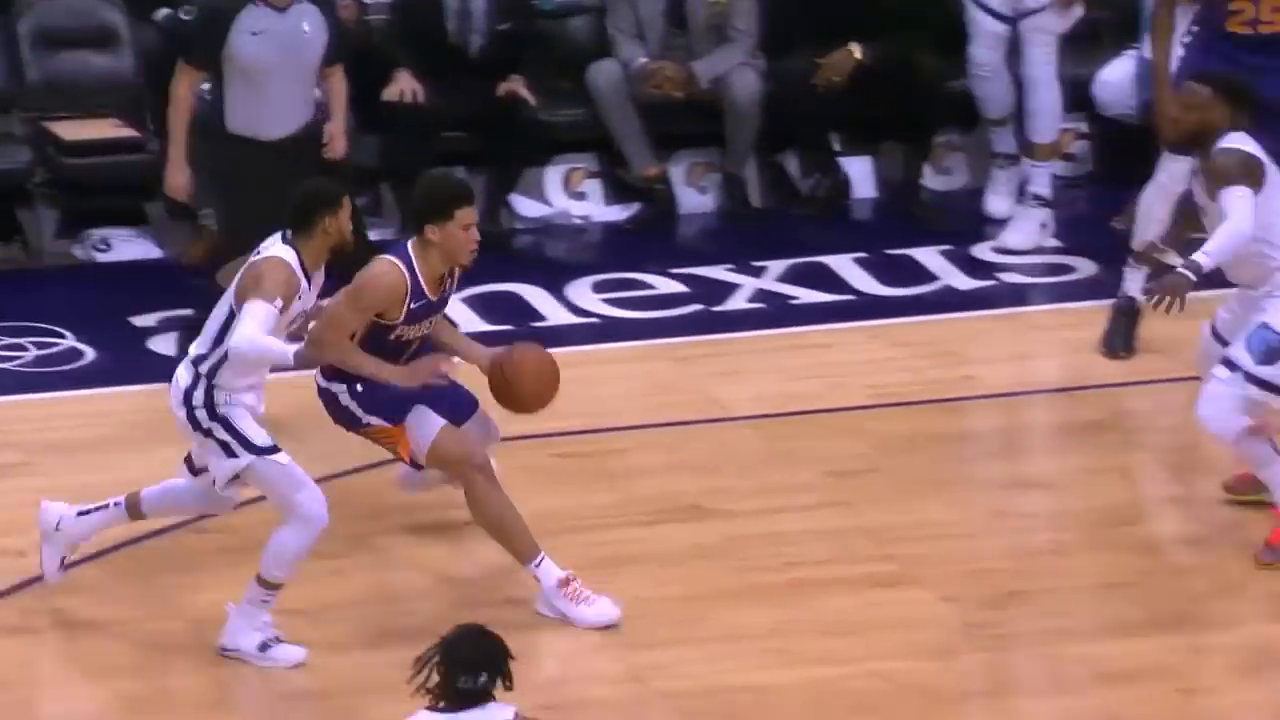ball: (491, 340, 560, 415)
